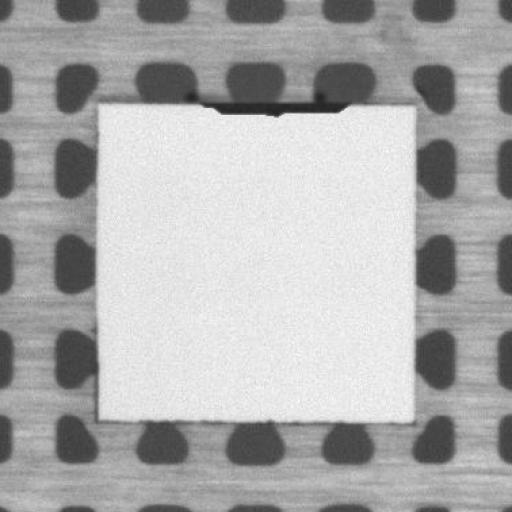DIE_BROKEN: (198, 93, 352, 118)
